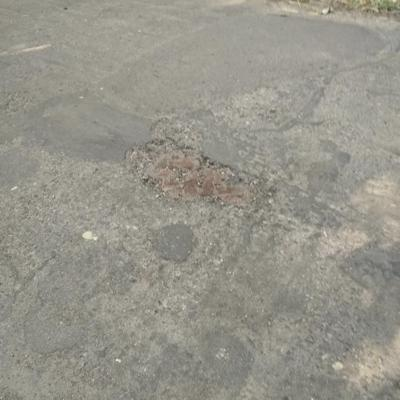Pothole: (108, 121, 337, 249)
